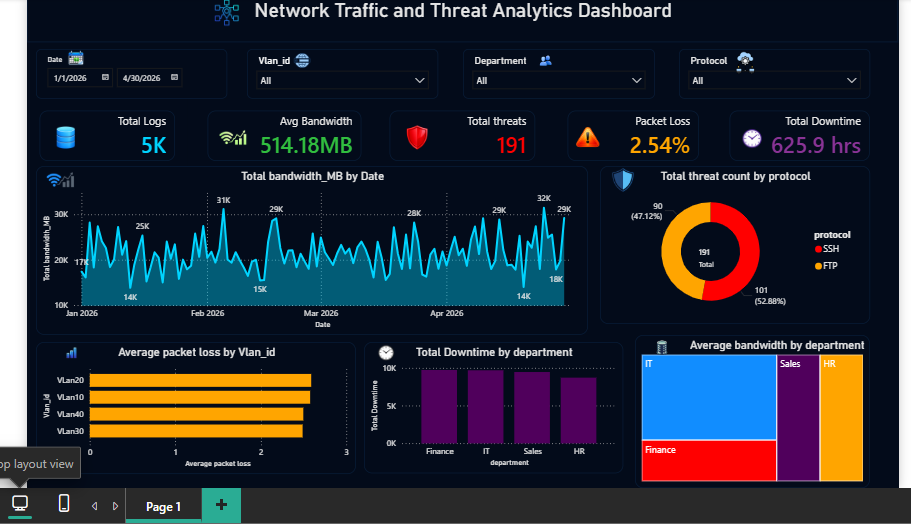

What the dashboard file says about the page in this screenshot:
{"tool":"powerbi","page":{"name":"Page 1","canvas":[1280,720],"ordinal":0},"visuals":[{"type":"slicer","fields":{"Values":["DateTable.Date"]},"box":[13.2,74.9,280.7,73.5],"z":0},{"type":"slicer","fields":{"Values":["network_traffic_analysis_project.vlan_id"]},"box":[323.3,74.9,280.7,73.5],"z":1000},{"type":"slicer","fields":{"Values":["network_traffic_analysis_project.department"]},"box":[640.7,74.9,282.1,73.5],"z":2000},{"type":"slicer","fields":{"Values":["network_traffic_analysis_project.protocol"]},"box":[958,74.9,280.7,73.5],"z":3000},{"type":"cardVisual","fields":{"Data":["network_traffic_analysis_project.Total Logs"]},"box":[1.5,148.4,233.6,108.7],"z":4000},{"type":"cardVisual","fields":{"Data":["network_traffic_analysis_project.Total Downtime Hours Display"]},"box":[1015.3,148.4,241,108.7],"z":5000},{"type":"cardVisual","fields":{"Data":["network_traffic_analysis_project.Avg Bandwidth"]},"box":[248.3,148.4,260.1,108.7],"z":6000},{"type":"cardVisual","fields":{"Data":["network_traffic_analysis_project.Packet Loss"]},"box":[777.3,148.4,227.8,108.7],"z":7000},{"type":"cardVisual","fields":{"Data":["network_traffic_analysis_project.Total Errors"]},"box":[515.8,148.4,248.3,108.7],"z":8000},{"type":"lineChart","fields":{"Y":["Sum(network_traffic_analysis_project.bandwidth)"],"Category":["network_traffic_analysis_project.Date Only"]},"box":[13.2,246.9,811.1,248.3],"z":9000},{"type":"donutChart","fields":{"Y":["network_traffic_analysis_project.Total Errors"],"Category":["network_traffic_analysis_project.protocol"]},"box":[842,246.9,396.7,232.2],"z":10000},{"type":"clusteredBarChart","fields":{"Category":["network_traffic_analysis_project.vlan_id"],"Y":["Avg(network_traffic_analysis_project.packet_loss_percent)"]},"box":[13.2,505.5,470.2,194],"z":11000},{"type":"clusteredColumnChart","fields":{"Category":["network_traffic_analysis_project.department"],"Y":["network_traffic_analysis_project.Total Downtime"]},"box":[495,506,381,193],"z":12000},{"type":"treemap","fields":{"Group":["network_traffic_analysis_project.department"],"Values":["Avg(network_traffic_analysis_project.bandwidth)"]},"box":[893.4,495.2,345.3,224.8],"z":13000},{"type":"cardVisual","fields":{"Data":["network_traffic_analysis_project.Total threat count"]},"box":[958,343.8,94,74.9],"z":14000},{"type":"textbox","title":"Network Traffic and Threat Analytics Dashboard","box":[0,0,1279.8,64.7],"z":15000},{"type":"image","box":[0,127.8,114.6,158.7],"z":16000},{"type":"image","box":[508.4,170.4,129.3,73.5],"z":17000},{"type":"image","box":[789.1,173.4,70.5,67.6],"z":18000},{"type":"image","box":[267.4,173.4,73.5,66.1],"z":19000},{"type":"image","box":[1031.5,170.4,67.6,73.5],"z":20000},{"type":"image","box":[14.7,239.5,72,57.3],"z":21000},{"type":"image","box":[495.2,495.2,64.7,52.9],"z":22000},{"type":"image","box":[831.7,213.1,88.2,110.2],"z":23000},{"type":"image","box":[29.4,66.1,85.2,45.6],"z":24000},{"type":"image","box":[893.4,495.2,79.3,36.7],"z":25000},{"type":"image","box":[29.4,508.4,72,26.4],"z":26000},{"type":"image","box":[742,74.9,39.7,33.8],"z":27000},{"type":"image","box":[1031.5,77.9,48.5,33.8],"z":28000},{"type":"image","box":[368.8,79.3,70.5,25],"z":29000},{"type":"image","box":[243.9,0,98.4,42.6],"z":30000}]}

Visuals, with their boxes on the page's 1280x720 design canvas (x1, y1, x2, y2). These are canvas units, not pixel positions in the 911x524 screenshot, which may show the page scaled, cropped or inside an application window:
slicer - DateTable.Date: {"x1": 13, "y1": 75, "x2": 294, "y2": 148}
slicer - network_traffic_analysis_project.vlan_id: {"x1": 323, "y1": 75, "x2": 604, "y2": 148}
slicer - network_traffic_analysis_project.department: {"x1": 641, "y1": 75, "x2": 923, "y2": 148}
slicer - network_traffic_analysis_project.protocol: {"x1": 958, "y1": 75, "x2": 1239, "y2": 148}
cardVisual - network_traffic_analysis_project.Total Logs: {"x1": 2, "y1": 148, "x2": 235, "y2": 257}
cardVisual - network_traffic_analysis_project.Total Downtime Hours Display: {"x1": 1015, "y1": 148, "x2": 1256, "y2": 257}
cardVisual - network_traffic_analysis_project.Avg Bandwidth: {"x1": 248, "y1": 148, "x2": 508, "y2": 257}
cardVisual - network_traffic_analysis_project.Packet Loss: {"x1": 777, "y1": 148, "x2": 1005, "y2": 257}
cardVisual - network_traffic_analysis_project.Total Errors: {"x1": 516, "y1": 148, "x2": 764, "y2": 257}
lineChart - Sum(network_traffic_analysis_project.bandwidth) x network_traffic_analysis_project.Date Only: {"x1": 13, "y1": 247, "x2": 824, "y2": 495}
donutChart - network_traffic_analysis_project.Total Errors x network_traffic_analysis_project.protocol: {"x1": 842, "y1": 247, "x2": 1239, "y2": 479}
clusteredBarChart - network_traffic_analysis_project.vlan_id x Avg(network_traffic_analysis_project.packet_loss_percent): {"x1": 13, "y1": 506, "x2": 483, "y2": 700}
clusteredColumnChart - network_traffic_analysis_project.department x network_traffic_analysis_project.Total Downtime: {"x1": 495, "y1": 506, "x2": 876, "y2": 699}
treemap - network_traffic_analysis_project.department x Avg(network_traffic_analysis_project.bandwidth): {"x1": 893, "y1": 495, "x2": 1239, "y2": 720}
cardVisual - network_traffic_analysis_project.Total threat count: {"x1": 958, "y1": 344, "x2": 1052, "y2": 419}
"Network Traffic and Threat Analytics Dashboard" textbox: {"x1": 0, "y1": 0, "x2": 1280, "y2": 65}
image: {"x1": 0, "y1": 128, "x2": 115, "y2": 286}
image: {"x1": 508, "y1": 170, "x2": 638, "y2": 244}
image: {"x1": 789, "y1": 173, "x2": 860, "y2": 241}
image: {"x1": 267, "y1": 173, "x2": 341, "y2": 240}
image: {"x1": 1032, "y1": 170, "x2": 1099, "y2": 244}
image: {"x1": 15, "y1": 240, "x2": 87, "y2": 297}
image: {"x1": 495, "y1": 495, "x2": 560, "y2": 548}
image: {"x1": 832, "y1": 213, "x2": 920, "y2": 323}
image: {"x1": 29, "y1": 66, "x2": 115, "y2": 112}
image: {"x1": 893, "y1": 495, "x2": 973, "y2": 532}
image: {"x1": 29, "y1": 508, "x2": 101, "y2": 535}
image: {"x1": 742, "y1": 75, "x2": 782, "y2": 109}
image: {"x1": 1032, "y1": 78, "x2": 1080, "y2": 112}
image: {"x1": 369, "y1": 79, "x2": 439, "y2": 104}
image: {"x1": 244, "y1": 0, "x2": 342, "y2": 43}
